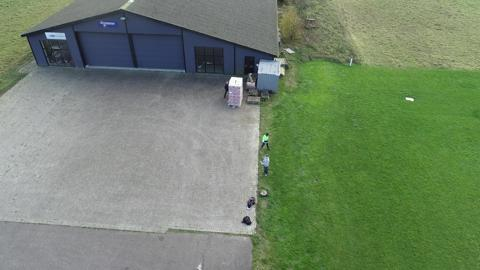RockwoolPallet: (229, 75, 244, 107)
